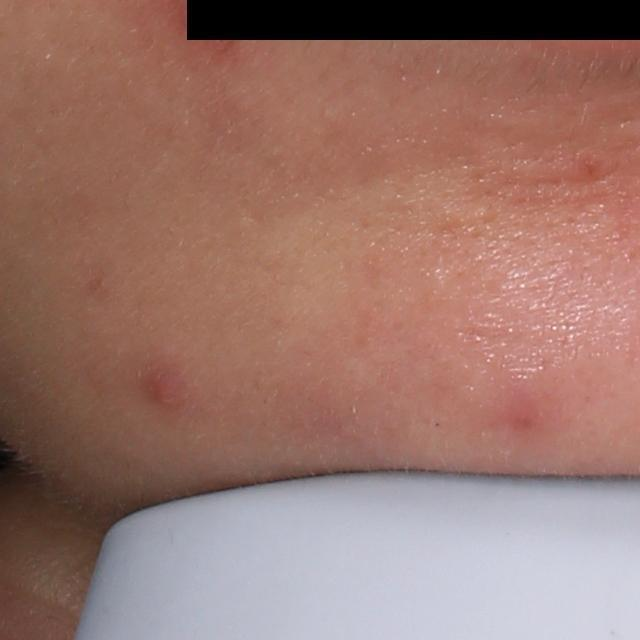papule: (137, 365, 189, 414)
